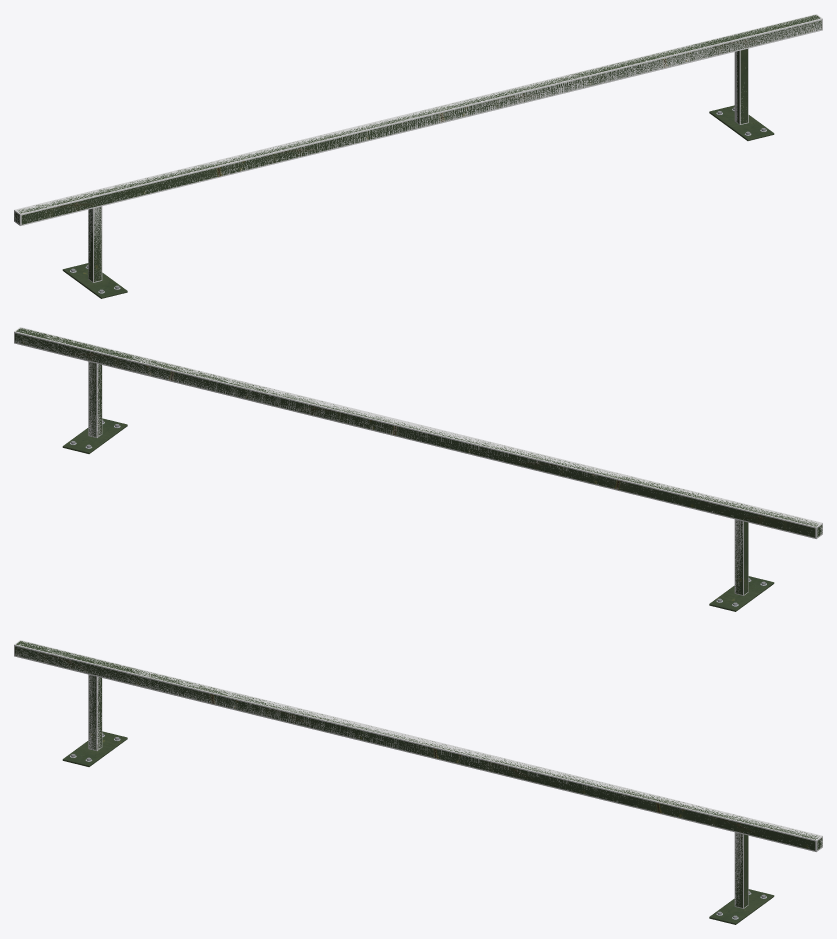
File: flat_bar.glb
3 renders of one model, top to bottom at view 1: azimuth 30°, elevation 25°; view 2: azimuth 150°, elevation 25°; view 3: azimuth 330°, elevation 25°, orthographic.
Visible parts, largest first — view 1: flat_bar_green paint, COL_flat_bar; view 2: flat_bar_green paint, COL_flat_bar; view 3: flat_bar_green paint, COL_flat_bar.
Boxes of the visible parts, x1,y1,x2,y2 form: flat_bar_green paint: [14, 15, 821, 298]; COL_flat_bar: [14, 14, 822, 282]; flat_bar_green paint: [15, 328, 822, 611]; COL_flat_bar: [14, 327, 822, 595]; flat_bar_green paint: [15, 641, 822, 924]; COL_flat_bar: [14, 640, 822, 908].
Size of the model in its own units: 3.6 by 0.38 by 0.3.
3 materials, 1 textured.
